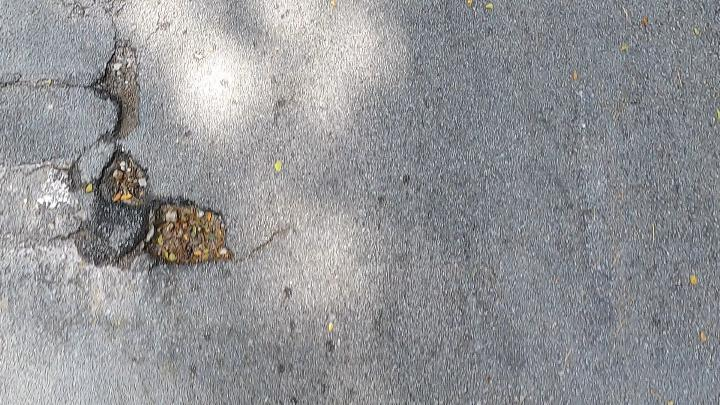Pothole: (63, 41, 233, 271), (71, 42, 229, 265)
